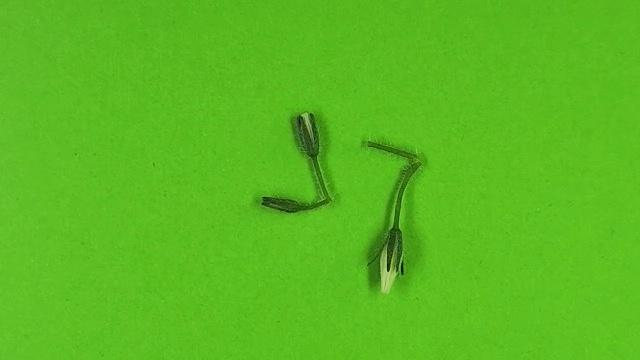Flower Bud: (374, 226, 404, 294), (295, 113, 320, 157), (261, 196, 311, 212)
